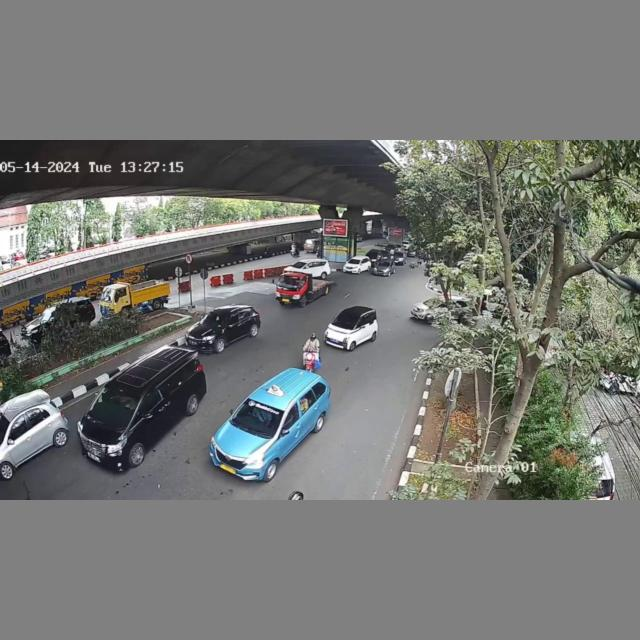windshield: (89, 383, 145, 427), (231, 399, 283, 431), (199, 311, 231, 328), (332, 312, 359, 330), (275, 278, 304, 290)
